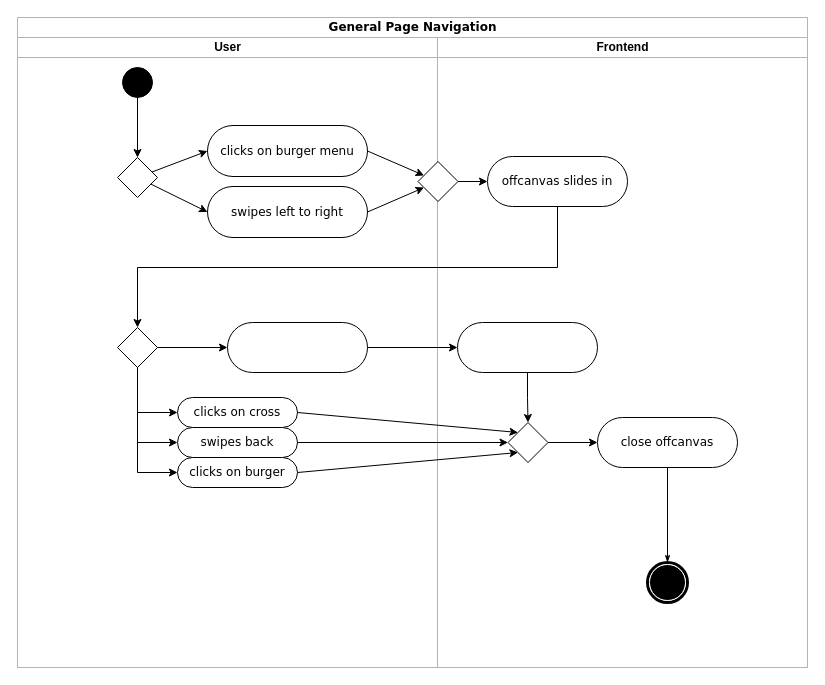
Some shapes in this 825 by 685 pixel diagram are drawn without their labels. Each missing label, with the centre of its shape:
"clicks on card in offcanvas" belongs at point 297,347.
"send request for respective service" belongs at point 527,347.
